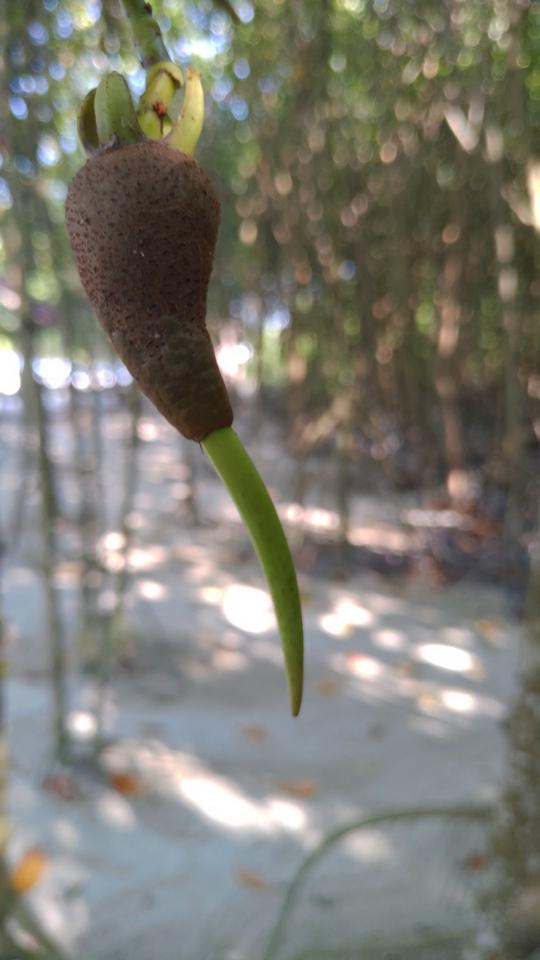mentah: (37, 38, 323, 732)
